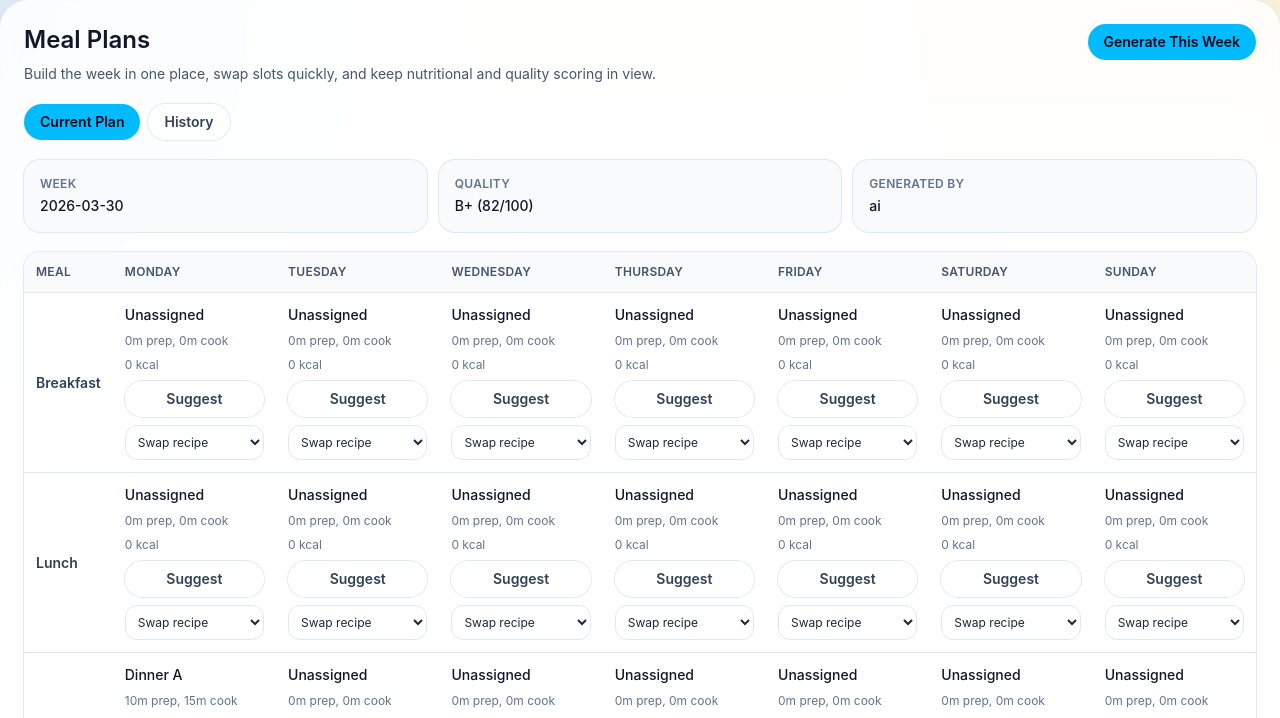
MealPlansPage › shows history tab entries
Check: the text "2026-03-30" is shown, box [40, 197, 124, 214]
Click the button "History".
click(189, 122)  # box [148, 104, 230, 140]
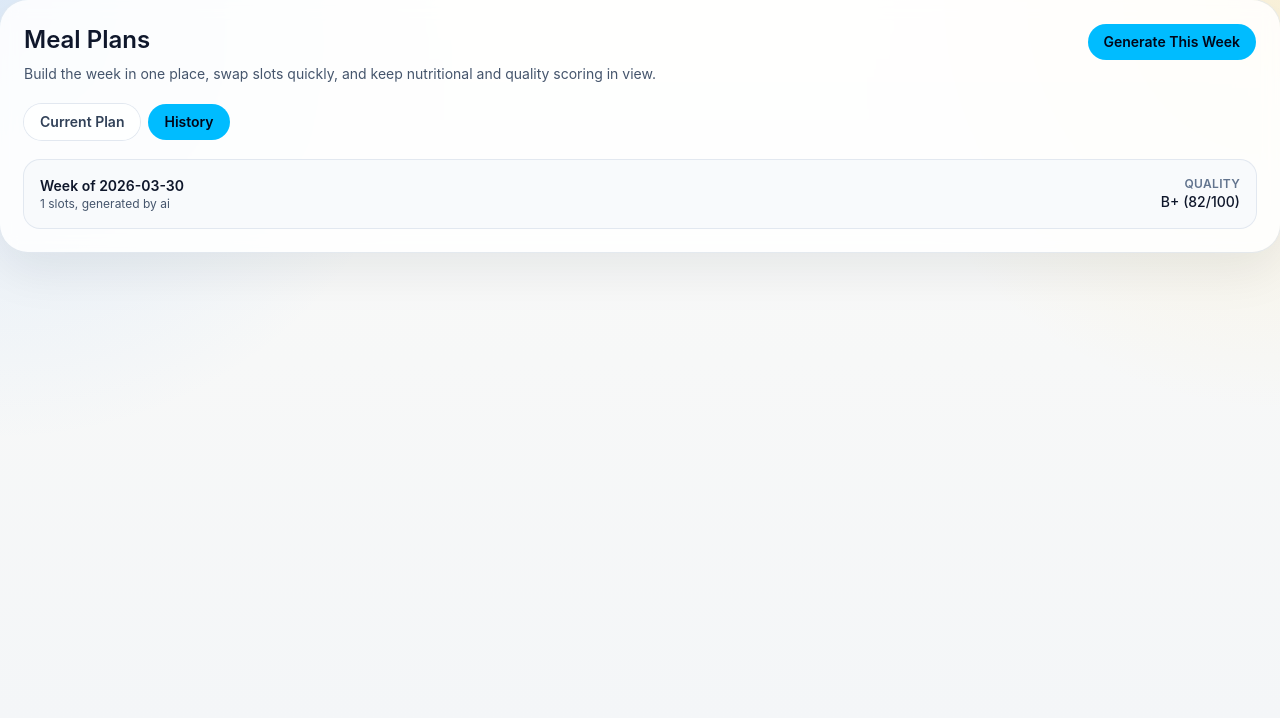
Check: the text "Week of 2026-03-30" is shown, box [40, 176, 184, 196]
